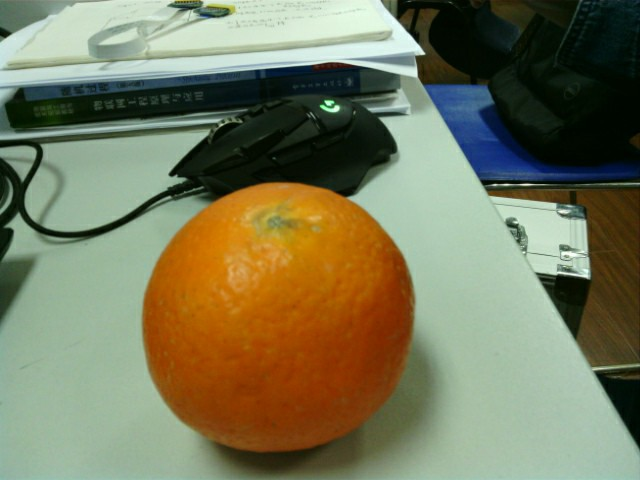normal_orange: (144, 183, 417, 449)
